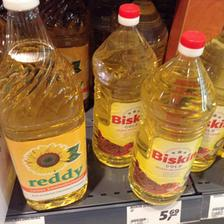Oel: (0, 0, 88, 212), (126, 30, 216, 206), (91, 1, 158, 166)
